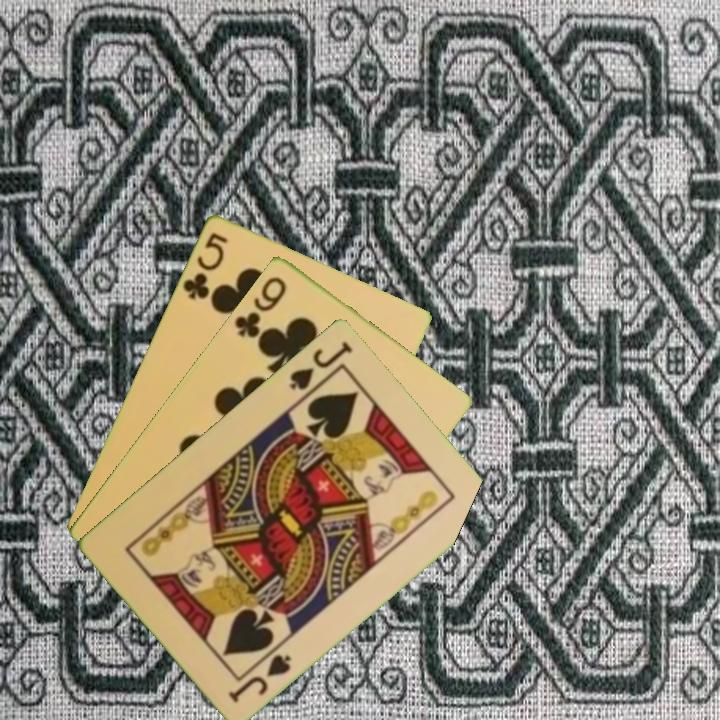5c: (178, 228, 231, 302)
9c: (231, 272, 290, 341)
Js: (285, 337, 356, 393), (225, 650, 294, 705)
